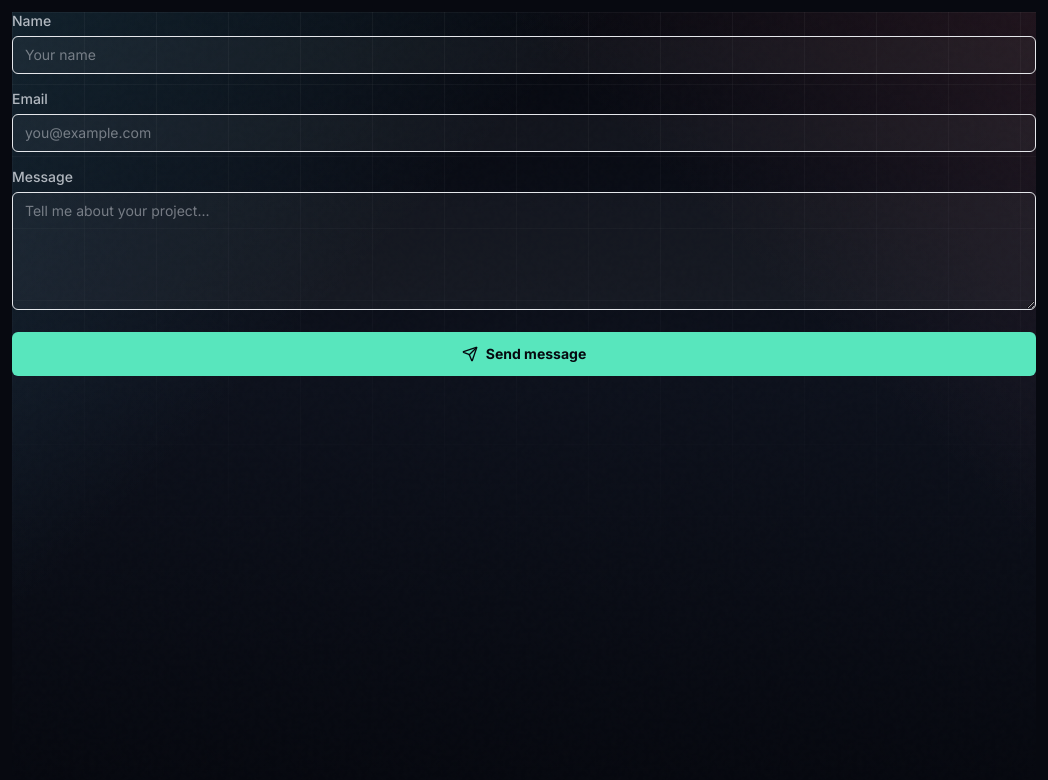
ContactForm › shows error message on failed submission
Type "John Doe" into the field labelled "Name" at x=524, y=55, box [12, 36, 1036, 74]
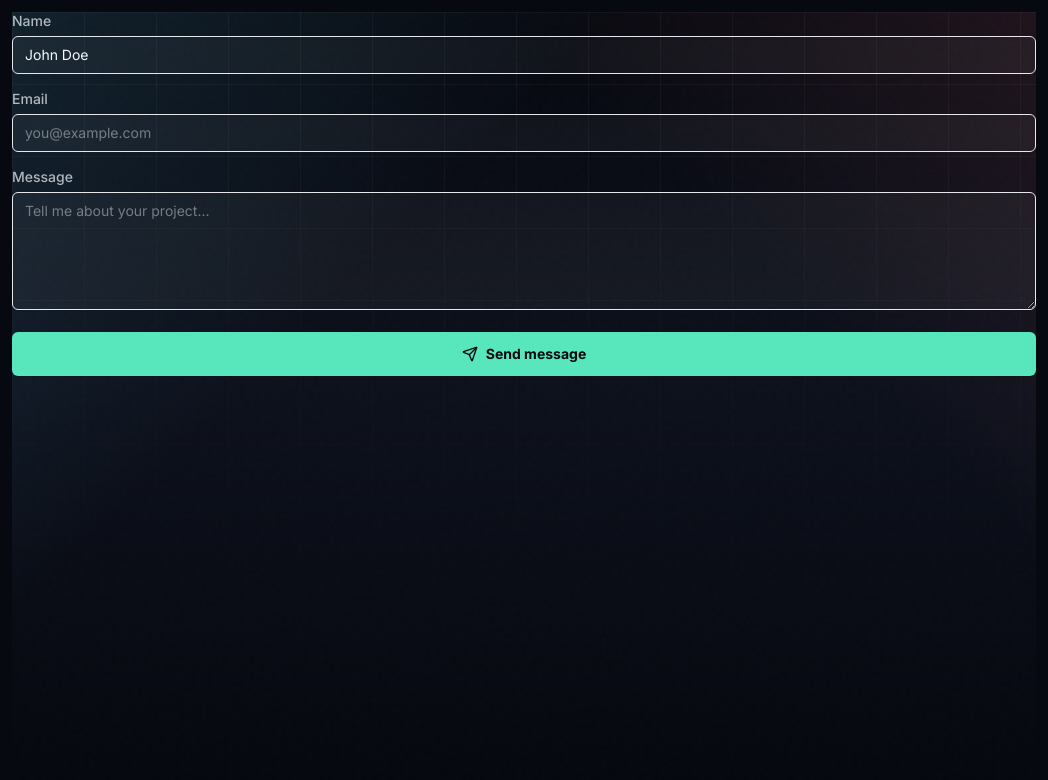
Type "john@example.com" into the field labelled "Email" at x=524, y=133, box [12, 114, 1036, 152]
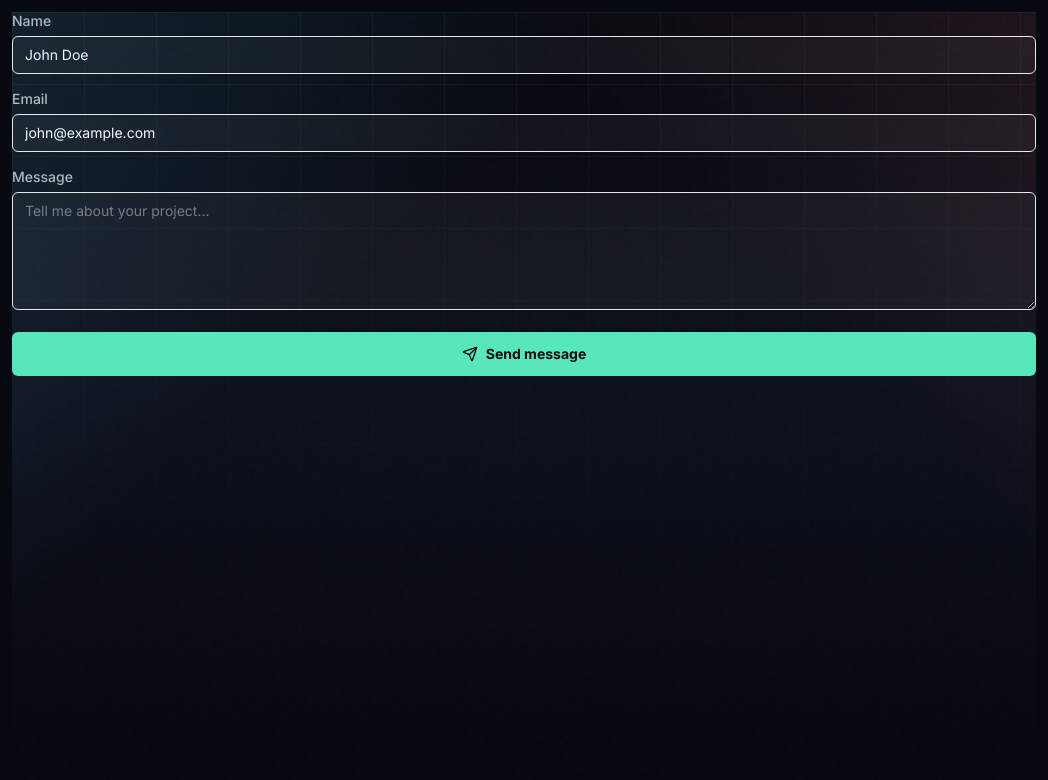
Type "Hello!" into the text box labelled "Message" at x=524, y=251, box [12, 192, 1036, 310]
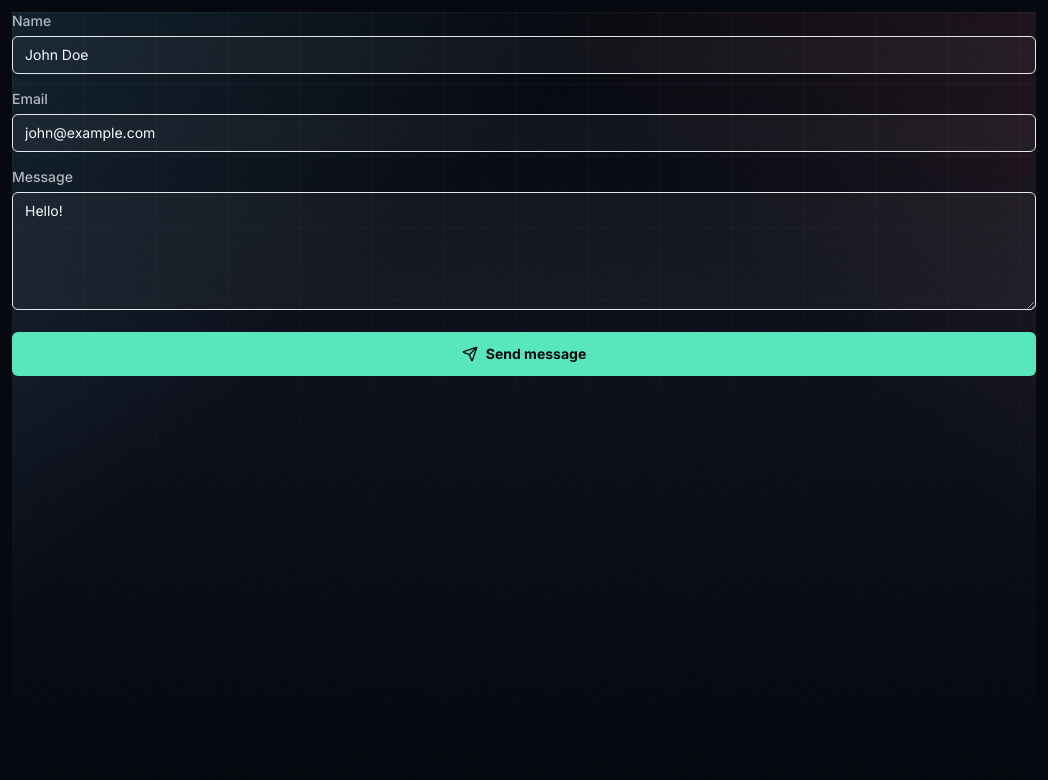
Click the button "Send message" at x=524, y=354, box [12, 332, 1036, 376]
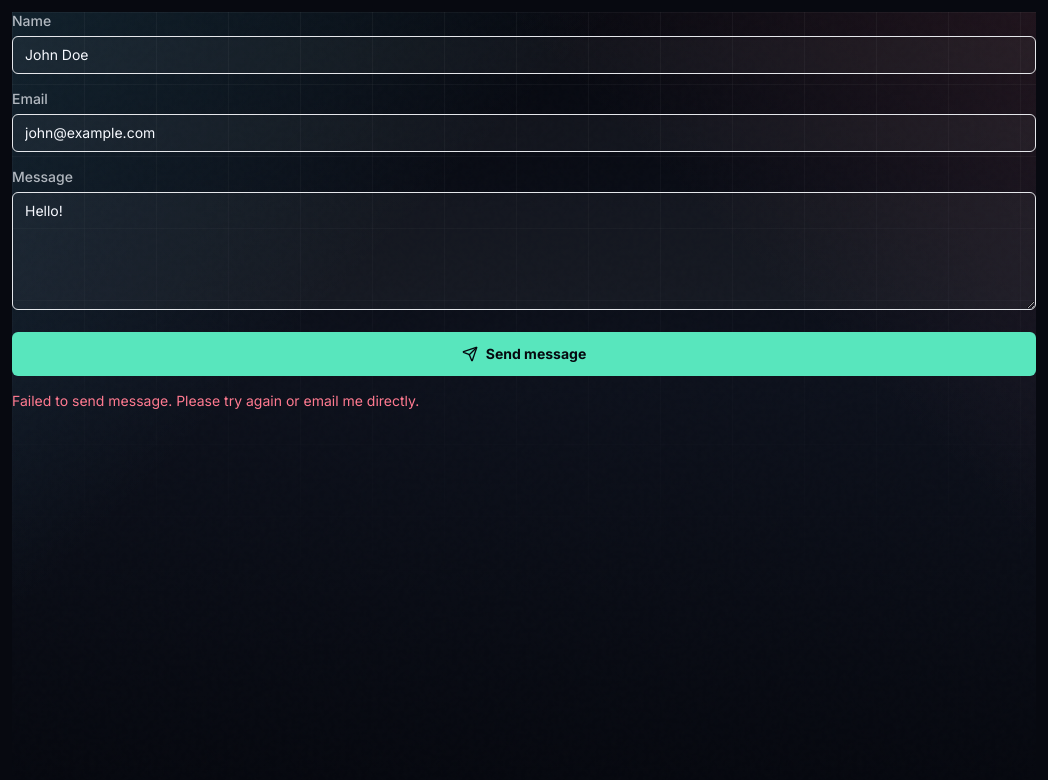
expect the text "Failed to send message. Please try again or email me directly." is shown: met, box [12, 393, 419, 410]
